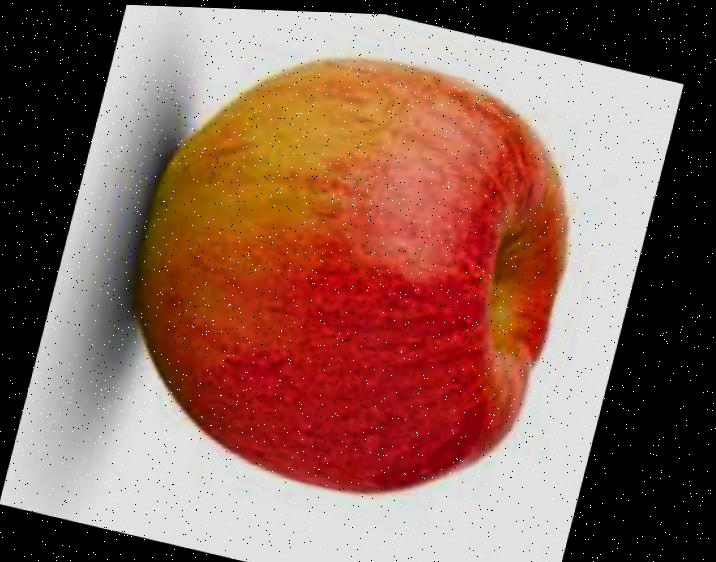HEALTHY: (68, 4, 647, 562)
